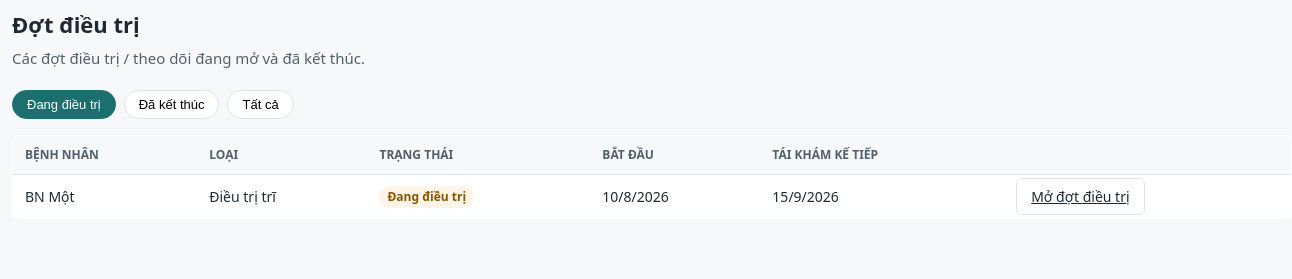
Scenario: TreatmentCasesPage — Đợt điều trị › "Tất cả" shows both
Expected: the row "BN Một" is shown, [12,174,1291,218]
Click the tab "Tất cả": point(261, 104) [228,90,294,118]
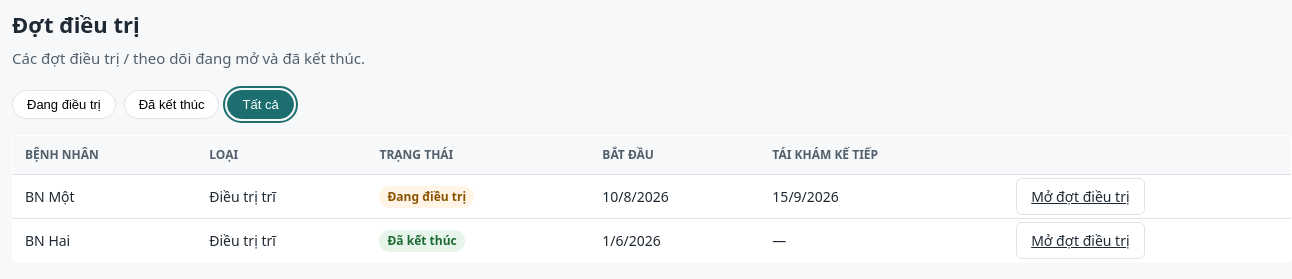
Expected: the row "BN Một" is shown, [12,174,1291,218]
Now the row "BN Hai Điều trị trĩ Đã kết thúc 1/6/2026 — Mở đợt điều trị" is shown, box [12,218,1291,262]
